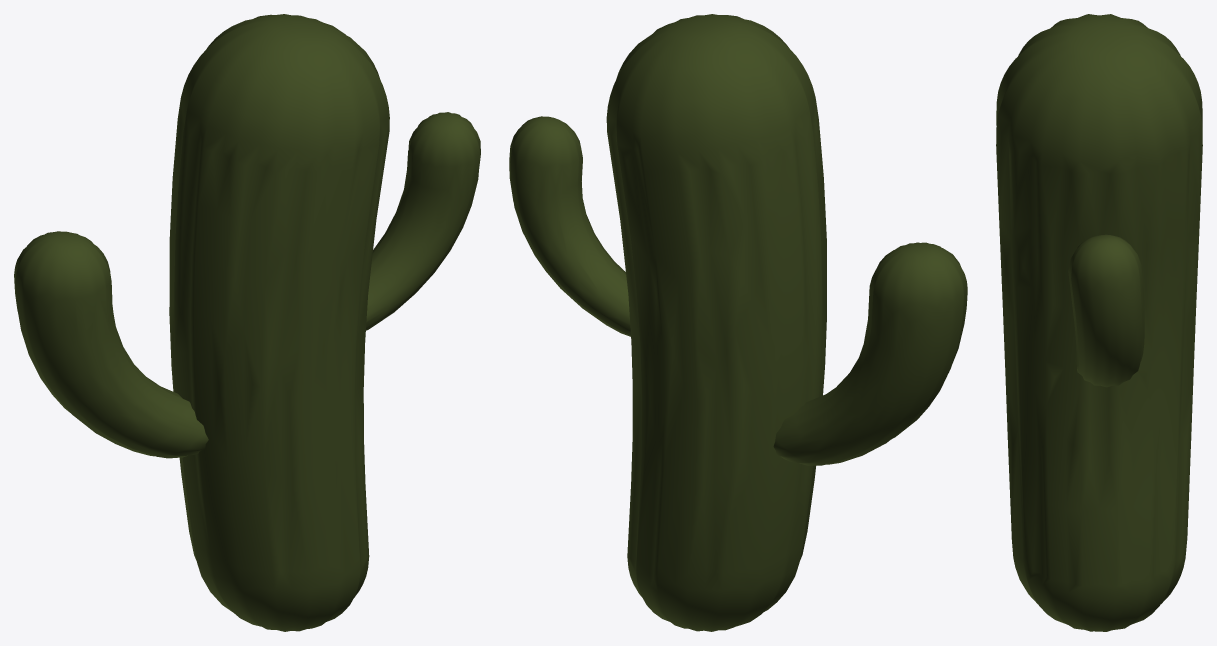
Rendered from cactus.fbx.
3 views of the same model, side by side, from view 1: azimuth 30°, elevation 25°; view 2: azimuth 150°, elevation 25°; view 3: azimuth 270°, elevation 25° (orthographic).
Visible parts, largest first — view 1: Cylinder.002; view 2: Cylinder.002; view 3: Cylinder.002.
Part boxes in pixels (x1=…): Cylinder.002: x1=14, y1=14, x2=480, y2=631; Cylinder.002: x1=509, y1=14, x2=967, y2=631; Cylinder.002: x1=996, y1=14, x2=1202, y2=631.
Bounding box in the file's own units: 198 × 250 × 78.85.
